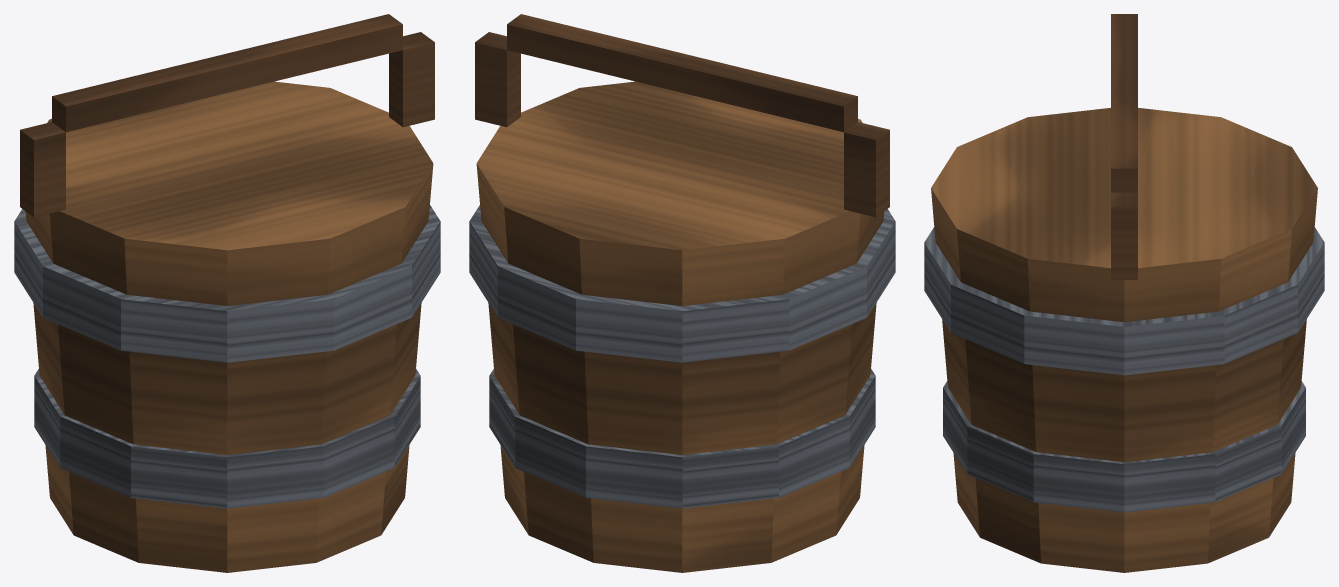
The model's file is wooden_bucket.fbx.
3 views of the same model, side by side, from view 1: azimuth 30°, elevation 25°; view 2: azimuth 150°, elevation 25°; view 3: azimuth 270°, elevation 25° (orthographic). The views are drawn at different scales.
Visible parts, largest first — view 1: wooden_bucket; view 2: wooden_bucket; view 3: wooden_bucket.
Part boxes in pixels (bbox=[...]): wooden_bucket: bbox=[14, 14, 440, 572]; wooden_bucket: bbox=[469, 14, 895, 572]; wooden_bucket: bbox=[924, 14, 1324, 572].
Bounding box in the file's own units: 32.6 × 34 × 30.
